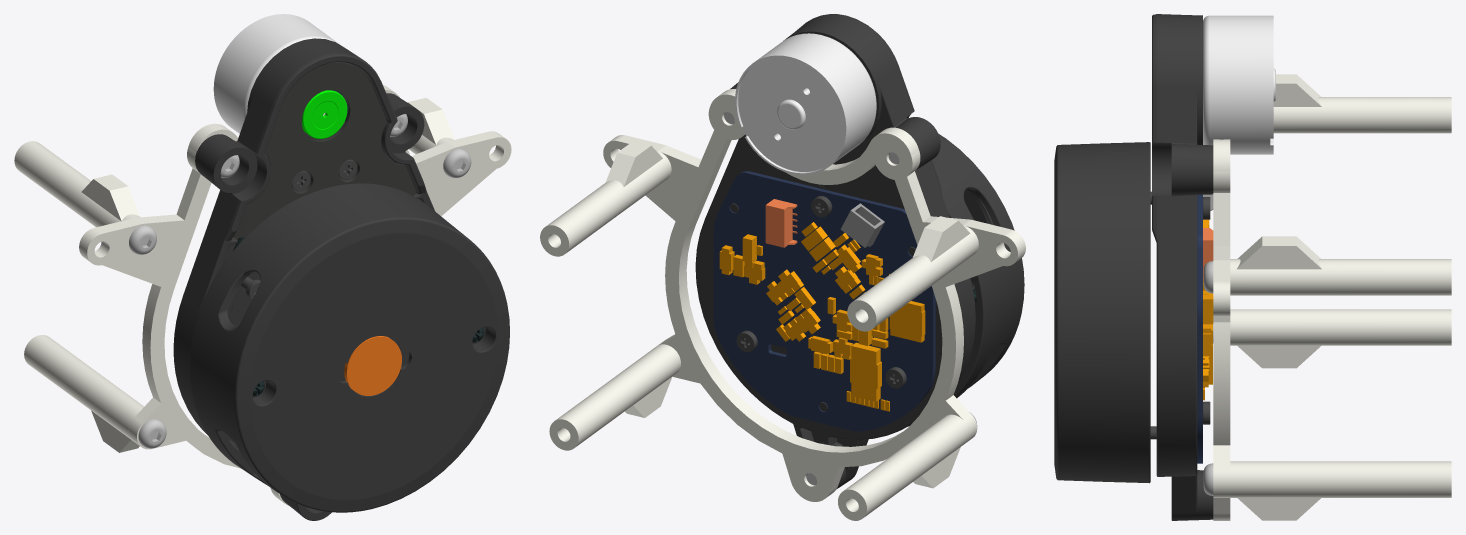
Rendered from Mini v2 v4.fbx.
3 views of the same model, side by side, from view 1: azimuth 30°, elevation 25°; view 2: azimuth 150°, elevation 25°; view 3: azimuth 270°, elevation 25° (orthographic). The views are drawn at different scales.
Parts seen in each view (by area): view 1: Body1 (×9), Lidar_Skirt_LD14P, Lidar_front_post1_LD14P, Lidar_rear_post1_LD14P, Lidar_Post_LD14P_x4; view 2: Body1 (×8), Lidar_Skirt_LD14P, Lidar_rear_post1_LD14P, Lidar_Post_LD14P_x4, Lidar_front_post1_LD14P, Lidar_front_post_LD14P; view 3: Body1 (×4), Lidar_Post_LD14P_x4, Lidar_front_post_LD14P, Lidar_front_post1_LD14P, Lidar_rear_post1_LD14P, Lidar_Skirt_LD14P.
Boxes of the visible parts, x1,y1,x2,y2 form: Body1 (×9): [129, 14, 509, 520]; Lidar_Skirt_LD14P: [79, 85, 511, 505]; Lidar_front_post1_LD14P: [24, 335, 144, 452]; Lidar_rear_post1_LD14P: [14, 141, 140, 227]; Lidar_Post_LD14P_x4: [407, 97, 454, 154]; Body1 (×8): [695, 14, 1024, 489]; Lidar_Skirt_LD14P: [603, 89, 1025, 501]; Lidar_rear_post1_LD14P: [847, 216, 978, 331]; Lidar_Post_LD14P_x4: [540, 141, 671, 256]; Lidar_front_post1_LD14P: [838, 414, 969, 520]; Lidar_front_post_LD14P: [549, 344, 680, 450]; Body1 (×4): [1054, 14, 1275, 520]; Lidar_Post_LD14P_x4: [1230, 236, 1451, 295]; Lidar_front_post_LD14P: [1230, 461, 1451, 520]; Lidar_front_post1_LD14P: [1230, 309, 1451, 368]; Lidar_rear_post1_LD14P: [1273, 74, 1451, 133]; Lidar_Skirt_LD14P: [1213, 139, 1230, 520].
Size of the model in its own units: 90.8 by 96.29 by 69.65.
